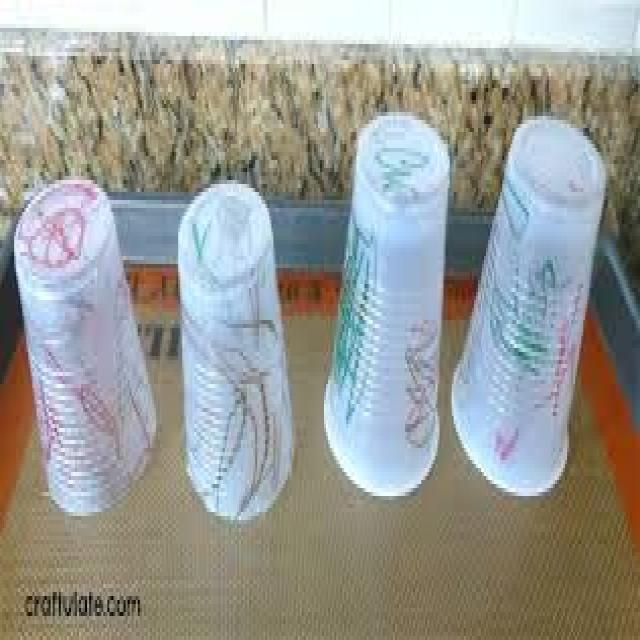cup: (450, 89, 605, 531), (13, 166, 165, 536), (170, 155, 307, 550), (323, 113, 452, 523)
